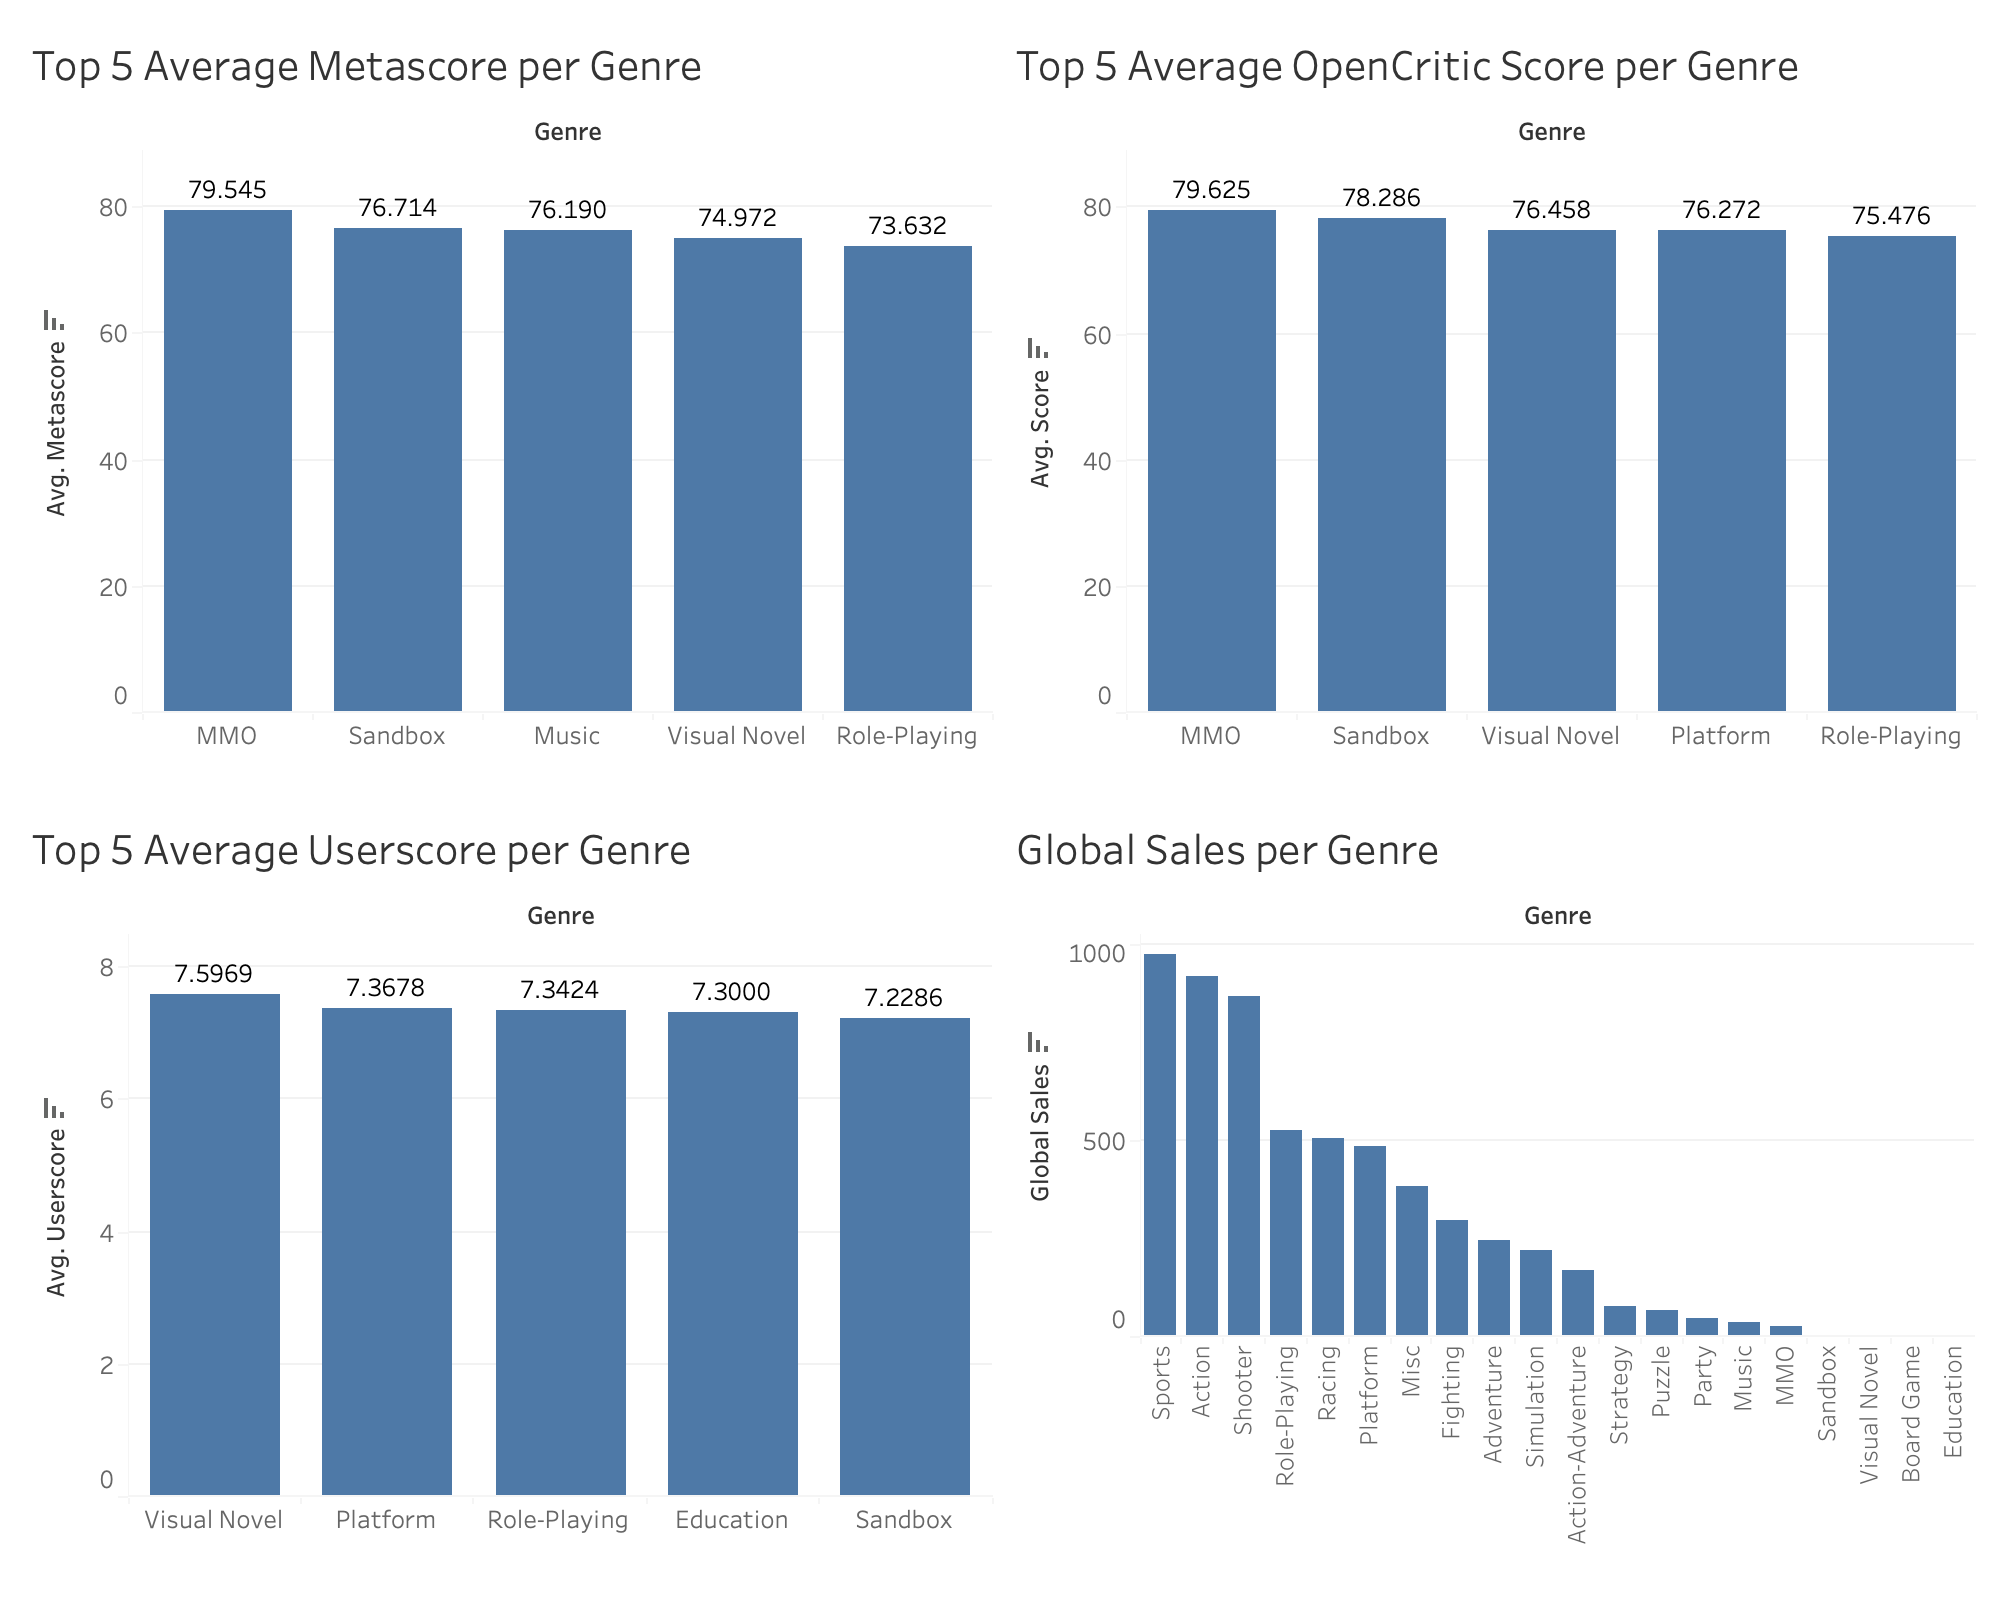

Layout of this report page (visuals, bound fields, positions):
{"tool":"tableau","page":{"name":"Dashboard 2","canvas":[1000,800],"ordinal":1},"visuals":[{"type":"worksheet","title":"Sheet 1 (6)","mark":"Automatic","rows":["metascore"],"cols":["Genre"],"box":[8,8,492,392]},{"type":"worksheet","title":"Sheet 1 (7)","mark":"Automatic","rows":["score"],"cols":["Genre"],"box":[500,8,492,392]},{"type":"worksheet","title":"Sheet 1 (5)","mark":"Automatic","rows":["userscore"],"cols":["Genre"],"box":[8,400,492,392]},{"type":"worksheet","title":"Sheet 1 (2)","mark":"Automatic","rows":["Global_Sales"],"cols":["Genre"],"box":[500,400,492,392]}]}

Visuals, with their boxes in screenshot pixels (x1, y1, x2, y2), scaled from the page's 1000x800 canvas onto the 2000x1600 screenshot:
"Sheet 1 (6)" worksheet: crop(16, 16, 1000, 800)
"Sheet 1 (7)" worksheet: crop(1000, 16, 1984, 800)
"Sheet 1 (5)" worksheet: crop(16, 800, 1000, 1584)
"Sheet 1 (2)" worksheet: crop(1000, 800, 1984, 1584)
